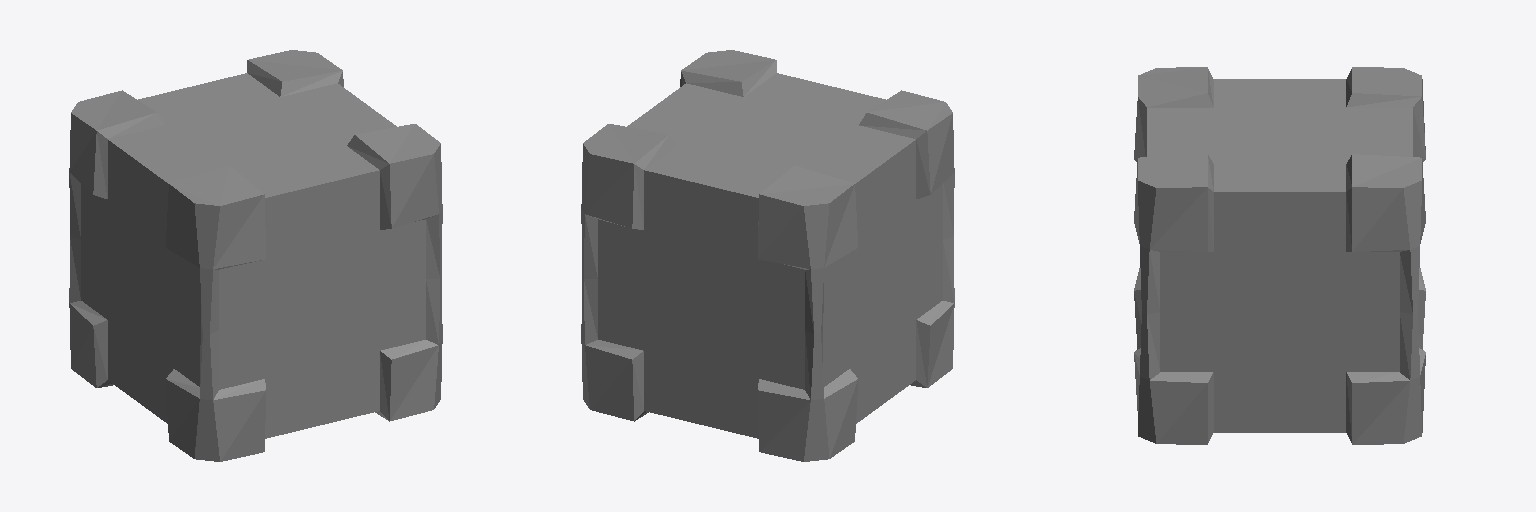
Rendered from pickup_shotgun_gk.obj.
3 views of the same model, side by side, from view 1: azimuth 30°, elevation 25°; view 2: azimuth 150°, elevation 25°; view 3: azimuth 270°, elevation 25° (orthographic).
Visible parts, largest first — view 1: pickup_shotgun_gk; view 2: pickup_shotgun_gk; view 3: pickup_shotgun_gk.
Part boxes in pixels (x1,y1,x2,y2): pickup_shotgun_gk: (69, 50, 442, 461); pickup_shotgun_gk: (581, 50, 954, 461); pickup_shotgun_gk: (1134, 67, 1425, 444).
Bounding box in the file's own units: 22 × 22 × 22.